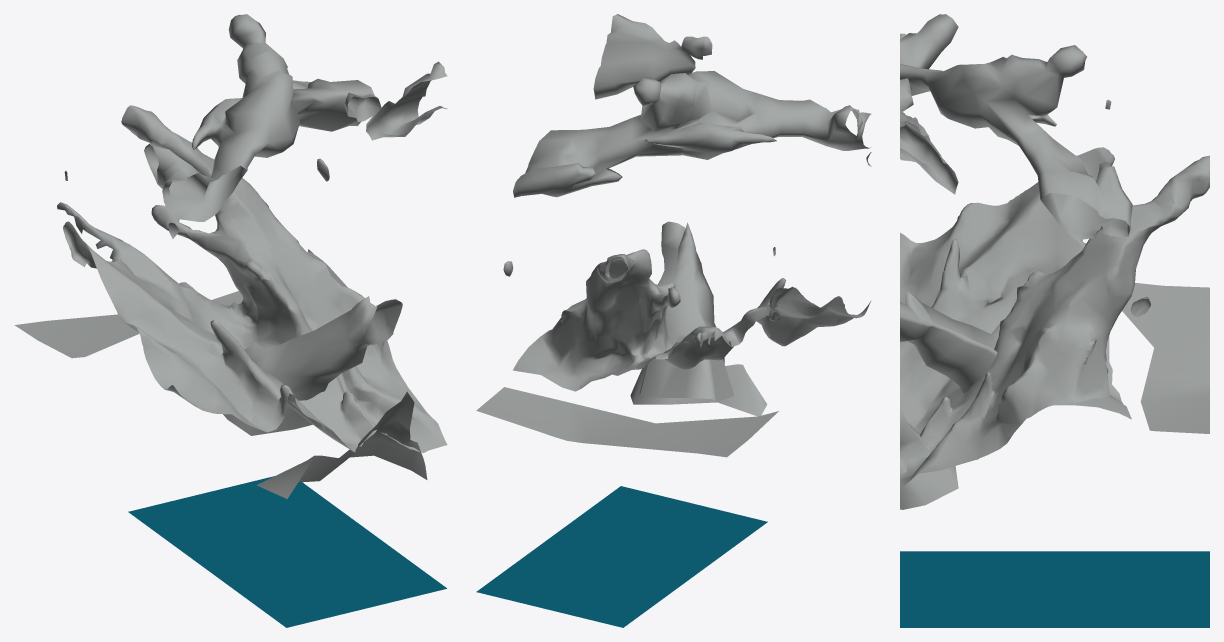
3 views of the same model, side by side, from view 1: azimuth 30°, elevation 25°; view 2: azimuth 150°, elevation 25°; view 3: azimuth 270°, elevation 25° (orthographic). The views are drawn at different scales.
Parts seen in each view (by area): view 1: G:\FFXIV-MapTools\exports\s1f3\bg\ffxiv\sea_s1\fld\s1f3\bgpl (×19); view 2: G:\FFXIV-MapTools\exports\s1f3\bg\ffxiv\sea_s1\fld\s1f3\bgpl (×17); view 3: G:\FFXIV-MapTools\exports\s1f3\bg\ffxiv\sea_s1\fld\s1f3\bgpl (×17).
Boxes of the visible parts, x1,y1,x2,y2 form: G:\FFXIV-MapTools\exports\s1f3\bg\ffxiv\sea_s1\fld\s1f3\bgpl (×19): [14, 14, 447, 627]; G:\FFXIV-MapTools\exports\s1f3\bg\ffxiv\sea_s1\fld\s1f3\bgpl (×17): [476, 14, 871, 627]; G:\FFXIV-MapTools\exports\s1f3\bg\ffxiv\sea_s1\fld\s1f3\bgpl (×17): [900, 14, 1209, 627].
Bounding box in the file's own units: 128 × 239 × 128.
